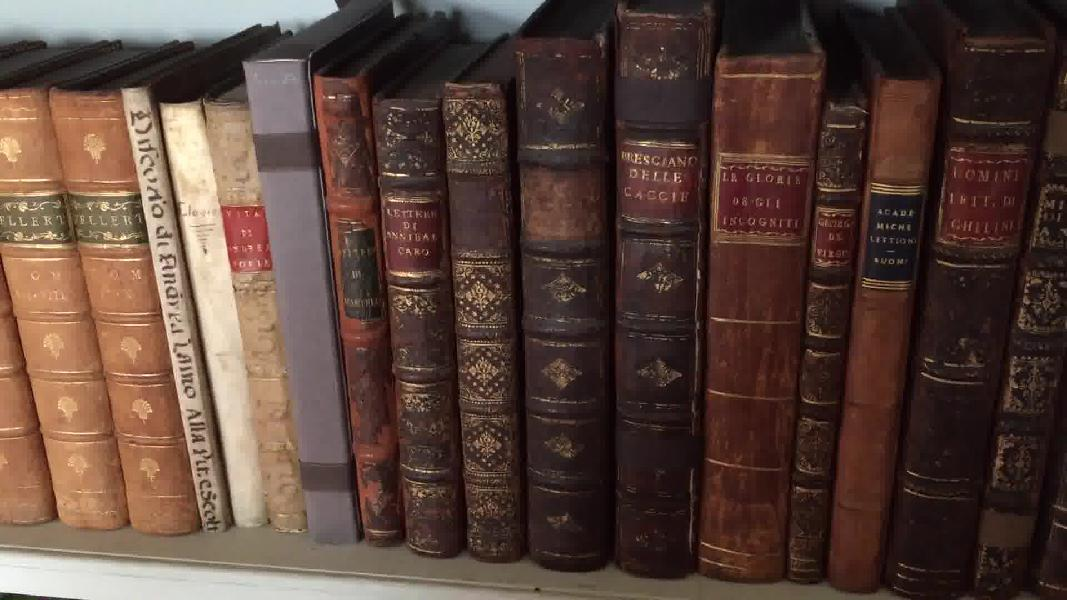Aa6-24: (111, 79, 232, 535)
Aa6-25: (148, 88, 267, 543)
Aa6-26: (196, 82, 313, 550)
Aa6-27: (238, 39, 374, 561)
Aa6-28: (301, 58, 412, 554)
Aa6-29: (367, 77, 473, 566)
Aa6-30: (442, 57, 517, 567)
Aa6-31: (494, 12, 616, 574)
Aa6-32: (606, 1, 716, 590)
Aa6-33: (689, 31, 819, 597)
Aa6-34: (782, 69, 890, 584)
Aa6-35: (831, 15, 932, 593)
Aa6-36: (912, 12, 1067, 600)
